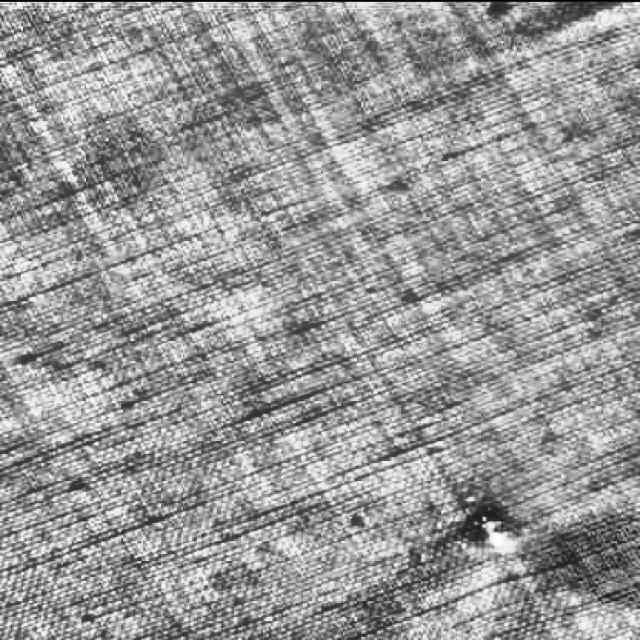hole: (464, 499, 523, 557)
